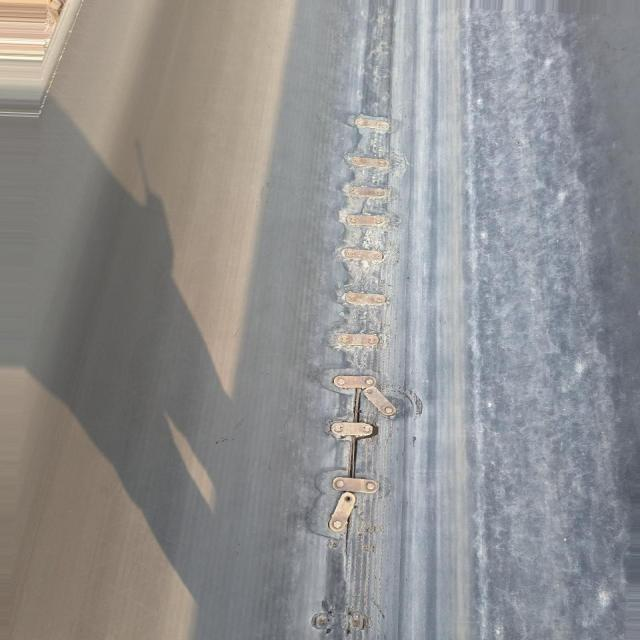patch work: (288, 89, 425, 640)
